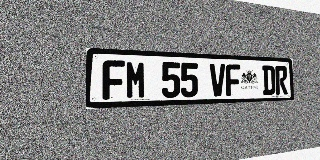5: (162, 62, 180, 98), (181, 62, 198, 97)
D: (262, 65, 275, 95)
F: (102, 60, 125, 100), (226, 64, 241, 96)
M: (126, 61, 146, 99)
R: (275, 66, 288, 95)
V: (210, 63, 226, 97)
